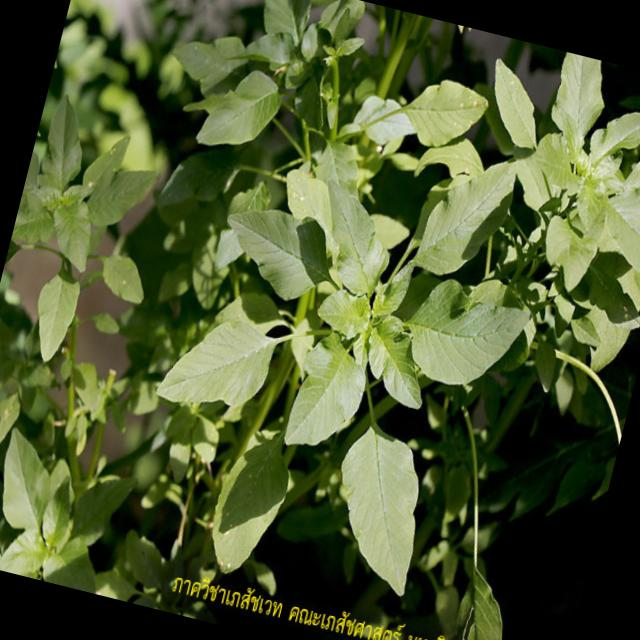Medicinal-Arive Dantu: (129, 84, 556, 618), (0, 96, 218, 595), (413, 42, 640, 423), (152, 0, 381, 179)
